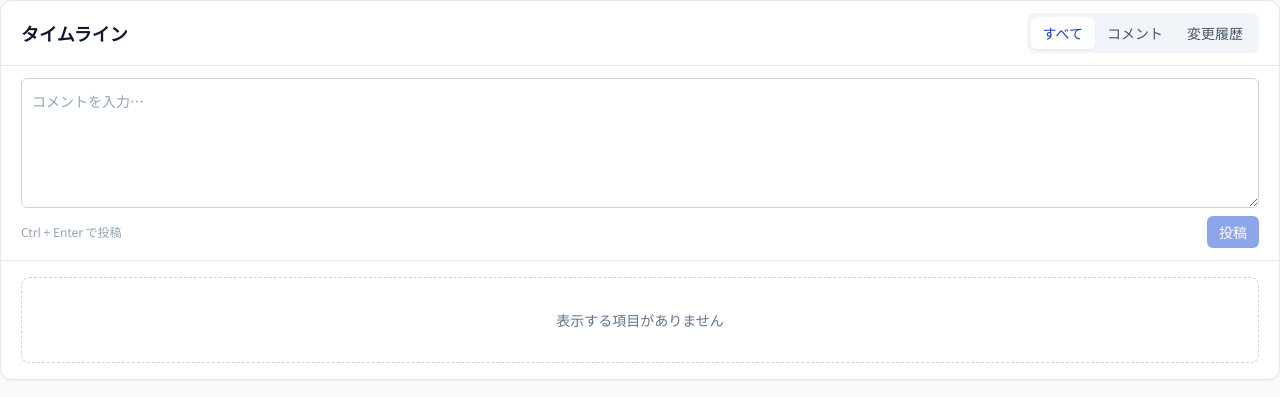
it: TaskTimeline › コメントタブが空のときはまだコメントはありませんと表示する
Click the tab "コメント" at (1135, 33), box x1=1095 y1=17 x2=1175 y2=49
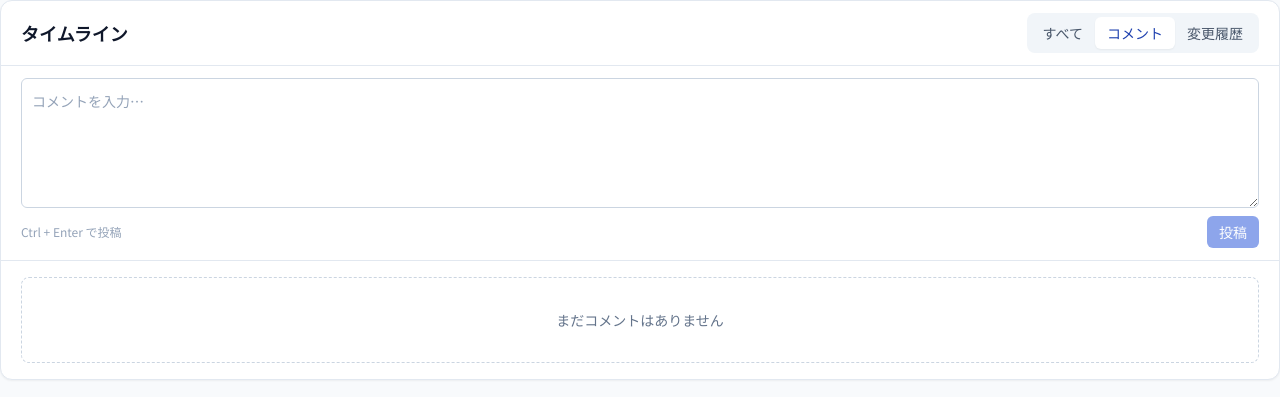
expect the text "まだコメントはありません" is shown: met, box x1=21 y1=277 x2=1259 y2=363
expect the text "表示する項目がありません" is gone: met
